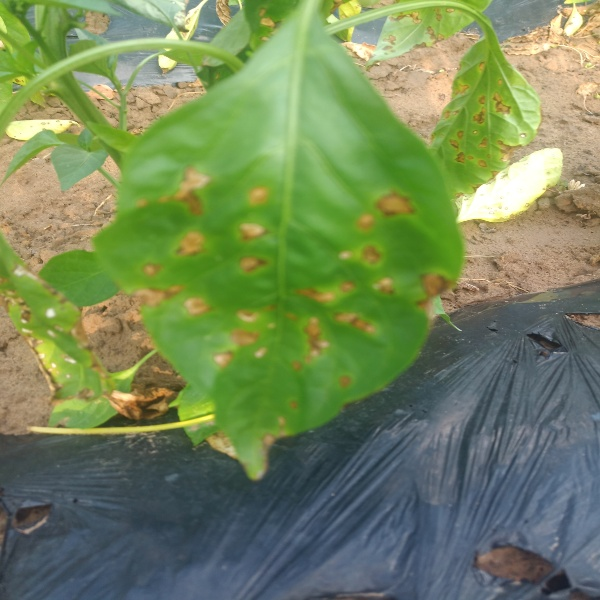Anthrax: (112, 43, 457, 482), (1, 257, 120, 429), (432, 39, 538, 216), (379, 1, 487, 54)
